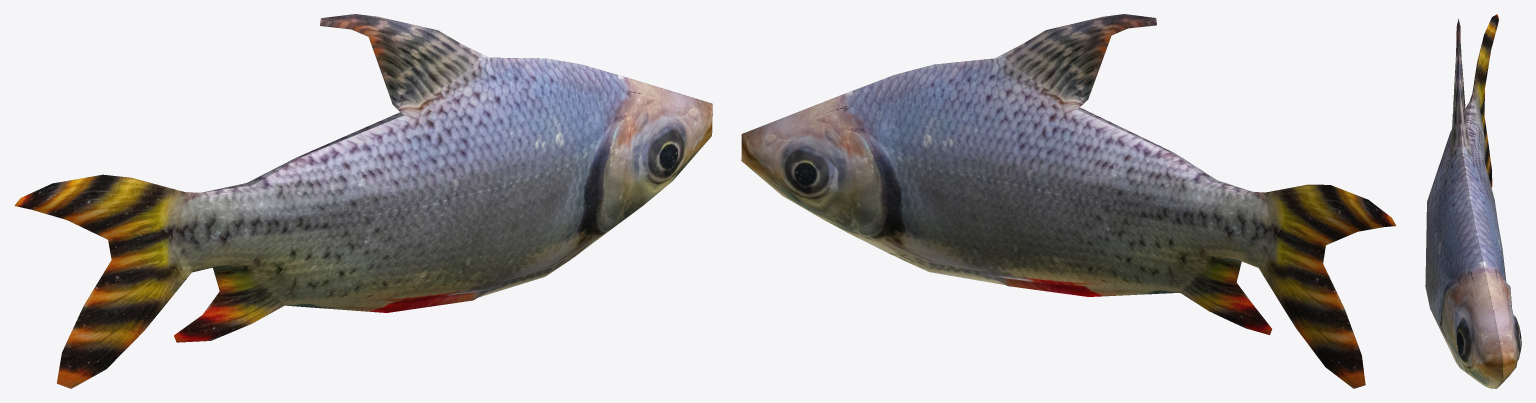
File: Anim_Flagtail.fbx
3 renders of one model, left to right at view 1: azimuth 30°, elevation 25°; view 2: azimuth 150°, elevation 25°; view 3: azimuth 270°, elevation 25°, orthographic. The views are drawn at different scales.
Visible parts, largest first — view 1: SK_Flagtail_LOD1_1__Copy_; view 2: SK_Flagtail_LOD1_1__Copy_; view 3: SK_Flagtail_LOD1_1__Copy_.
Boxes of the visible parts, <box> form: SK_Flagtail_LOD1_1__Copy_: <box>14,14,712,388</box>; SK_Flagtail_LOD1_1__Copy_: <box>741,14,1396,388</box>; SK_Flagtail_LOD1_1__Copy_: <box>1425,14,1521,388</box>.
Bounding box in the file's own units: 44.02 × 19.7 × 6.36.
Materials: 1 (1 with a texture image).
